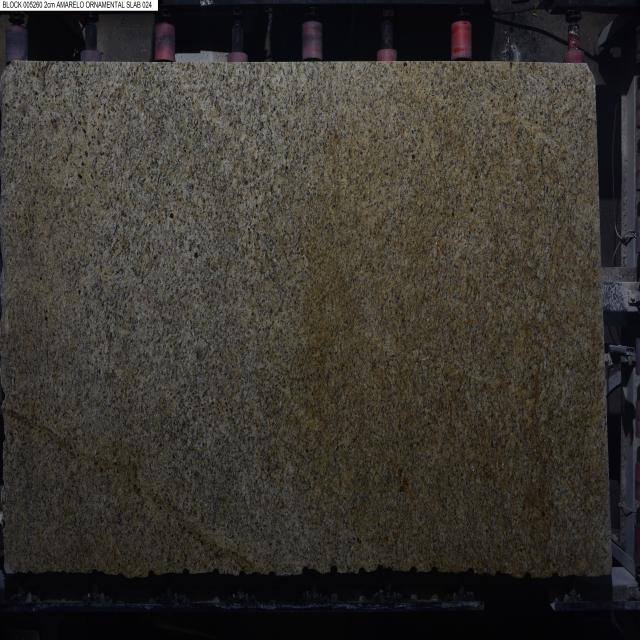chapa: (1, 64, 610, 578)
veio: (329, 563, 339, 576), (146, 569, 156, 579)
